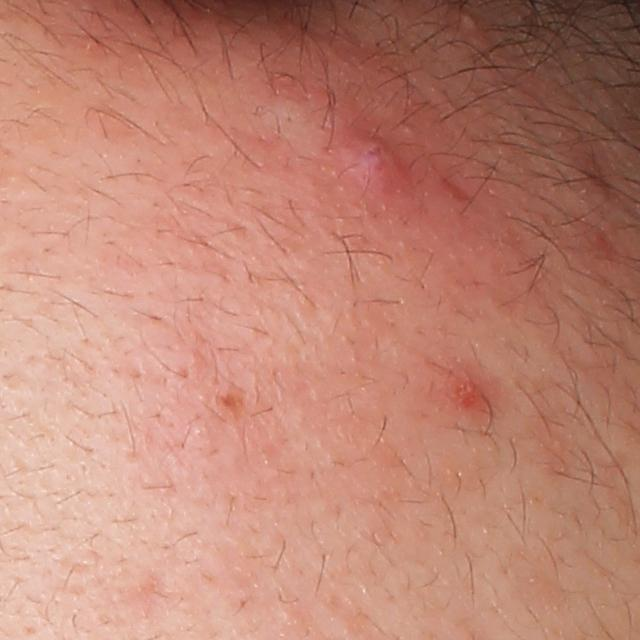papule: (340, 125, 413, 203), (443, 367, 486, 418)
